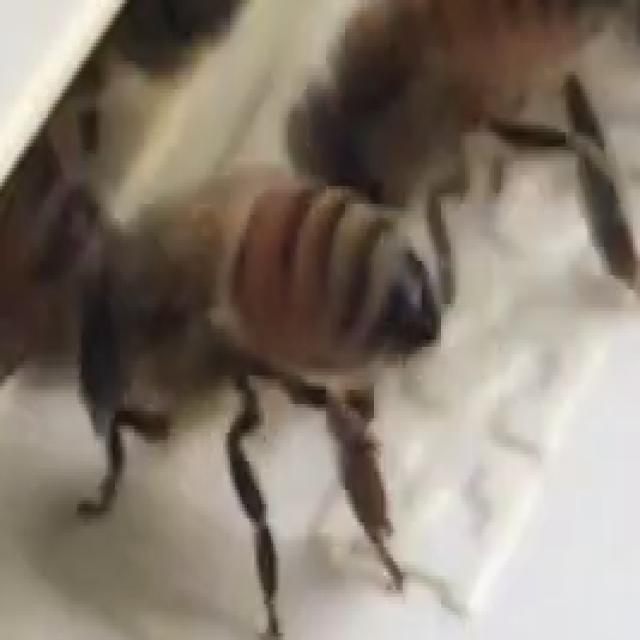honeybee: (42, 178, 454, 612), (260, 0, 640, 239)
